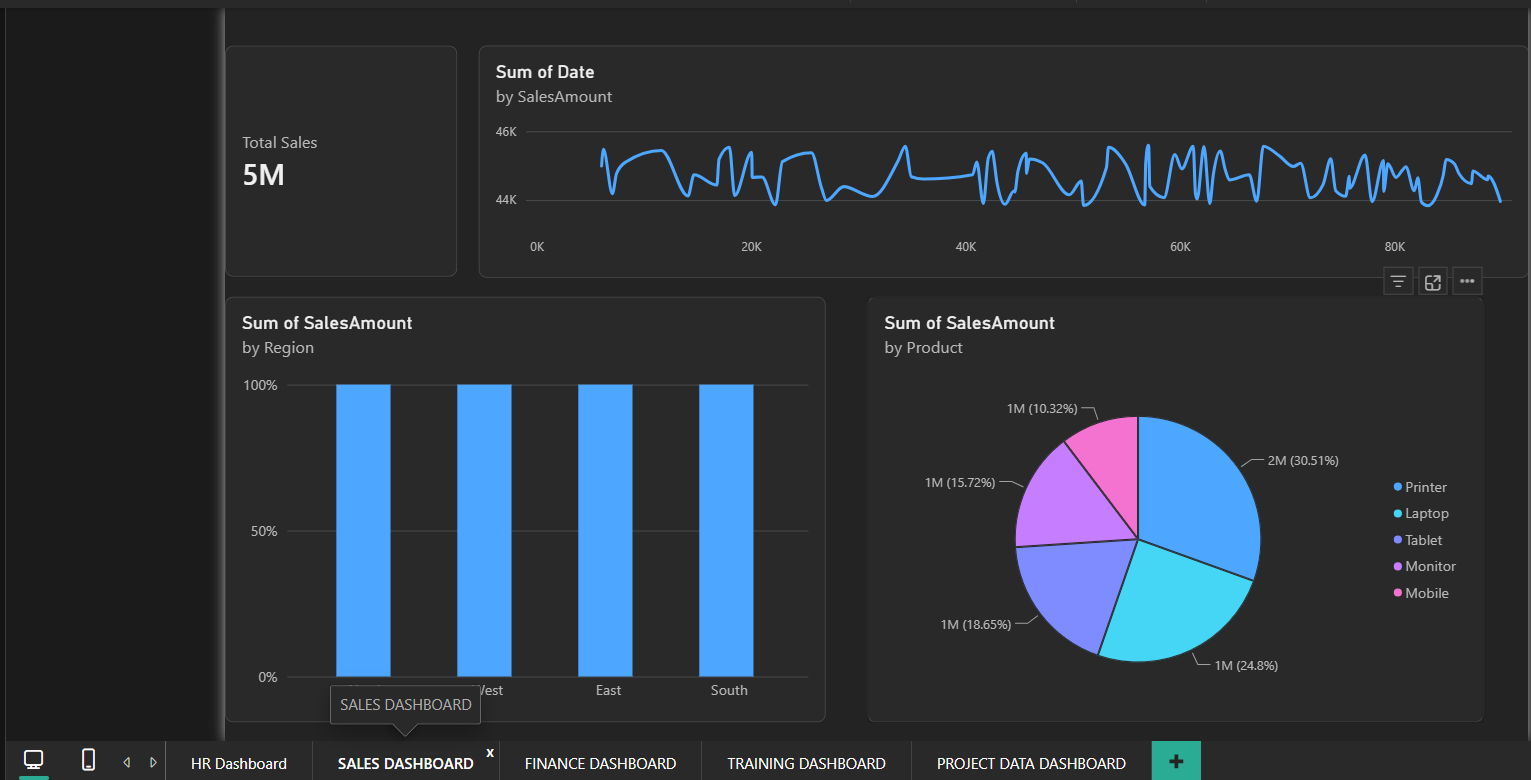

What the dashboard file says about the page in this screenshot:
{"tool":"powerbi","page":{"name":"SALES DASHBOARD","canvas":[1280,720],"ordinal":1},"visuals":[{"type":"cardVisual","fields":{"Data":["Sales_Data.Total Sales"]},"box":[0,37.3,228.9,227.6],"z":0},{"type":"lineChart","fields":{"Category":["Sales_Data.SalesAmount"],"Y":["Sum(Sales_Data.Date)"]},"box":[248.8,37.3,1031.2,227.6],"z":1000},{"type":"hundredPercentStackedColumnChart","fields":{"Category":["Sales_Data.Region"],"Y":["Sum(Sales_Data.SalesAmount)"]},"box":[0,283.6,589.6,418],"z":2000},{"type":"pieChart","fields":{"Category":["Sales_Data.Product"],"Y":["Sum(Sales_Data.SalesAmount)"]},"box":[630.7,283.6,604.6,418],"z":3000}]}

Visuals, with their boxes on the page's 1280x720 design canvas (x1, y1, x2, y2). These are canvas units, not pixel positions in the 1531x780 screenshot, which may show the page scaled, cropped or inside an application window:
cardVisual - Sales_Data.Total Sales: 0 37 229 265
lineChart - Sales_Data.SalesAmount x Sum(Sales_Data.Date): 249 37 1280 265
hundredPercentStackedColumnChart - Sales_Data.Region x Sum(Sales_Data.SalesAmount): 0 284 590 702
pieChart - Sales_Data.Product x Sum(Sales_Data.SalesAmount): 631 284 1235 702
